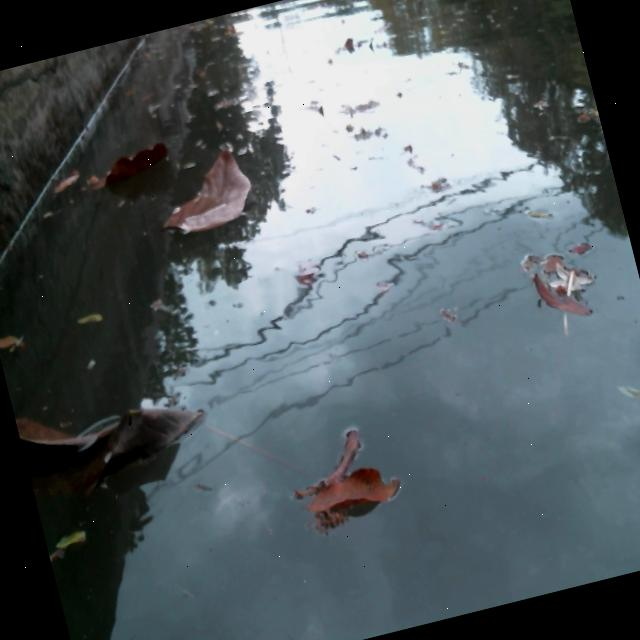Big-leaf: (13, 365, 234, 514), (278, 421, 403, 534), (150, 128, 268, 247), (86, 133, 172, 191)
Small-leaf: (498, 215, 619, 358), (22, 147, 100, 212), (43, 522, 93, 561), (0, 307, 39, 351), (68, 294, 113, 330)
